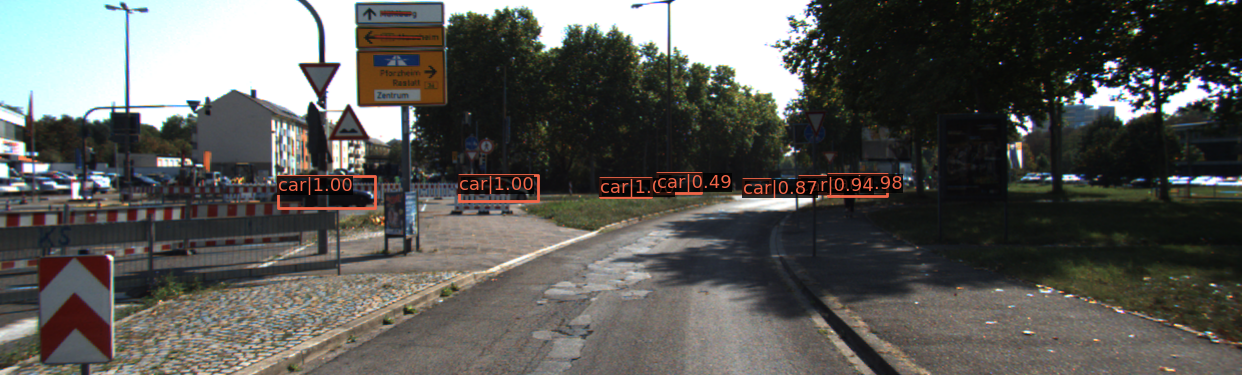car: (279, 181, 375, 212), (460, 179, 531, 207), (598, 178, 651, 201)
